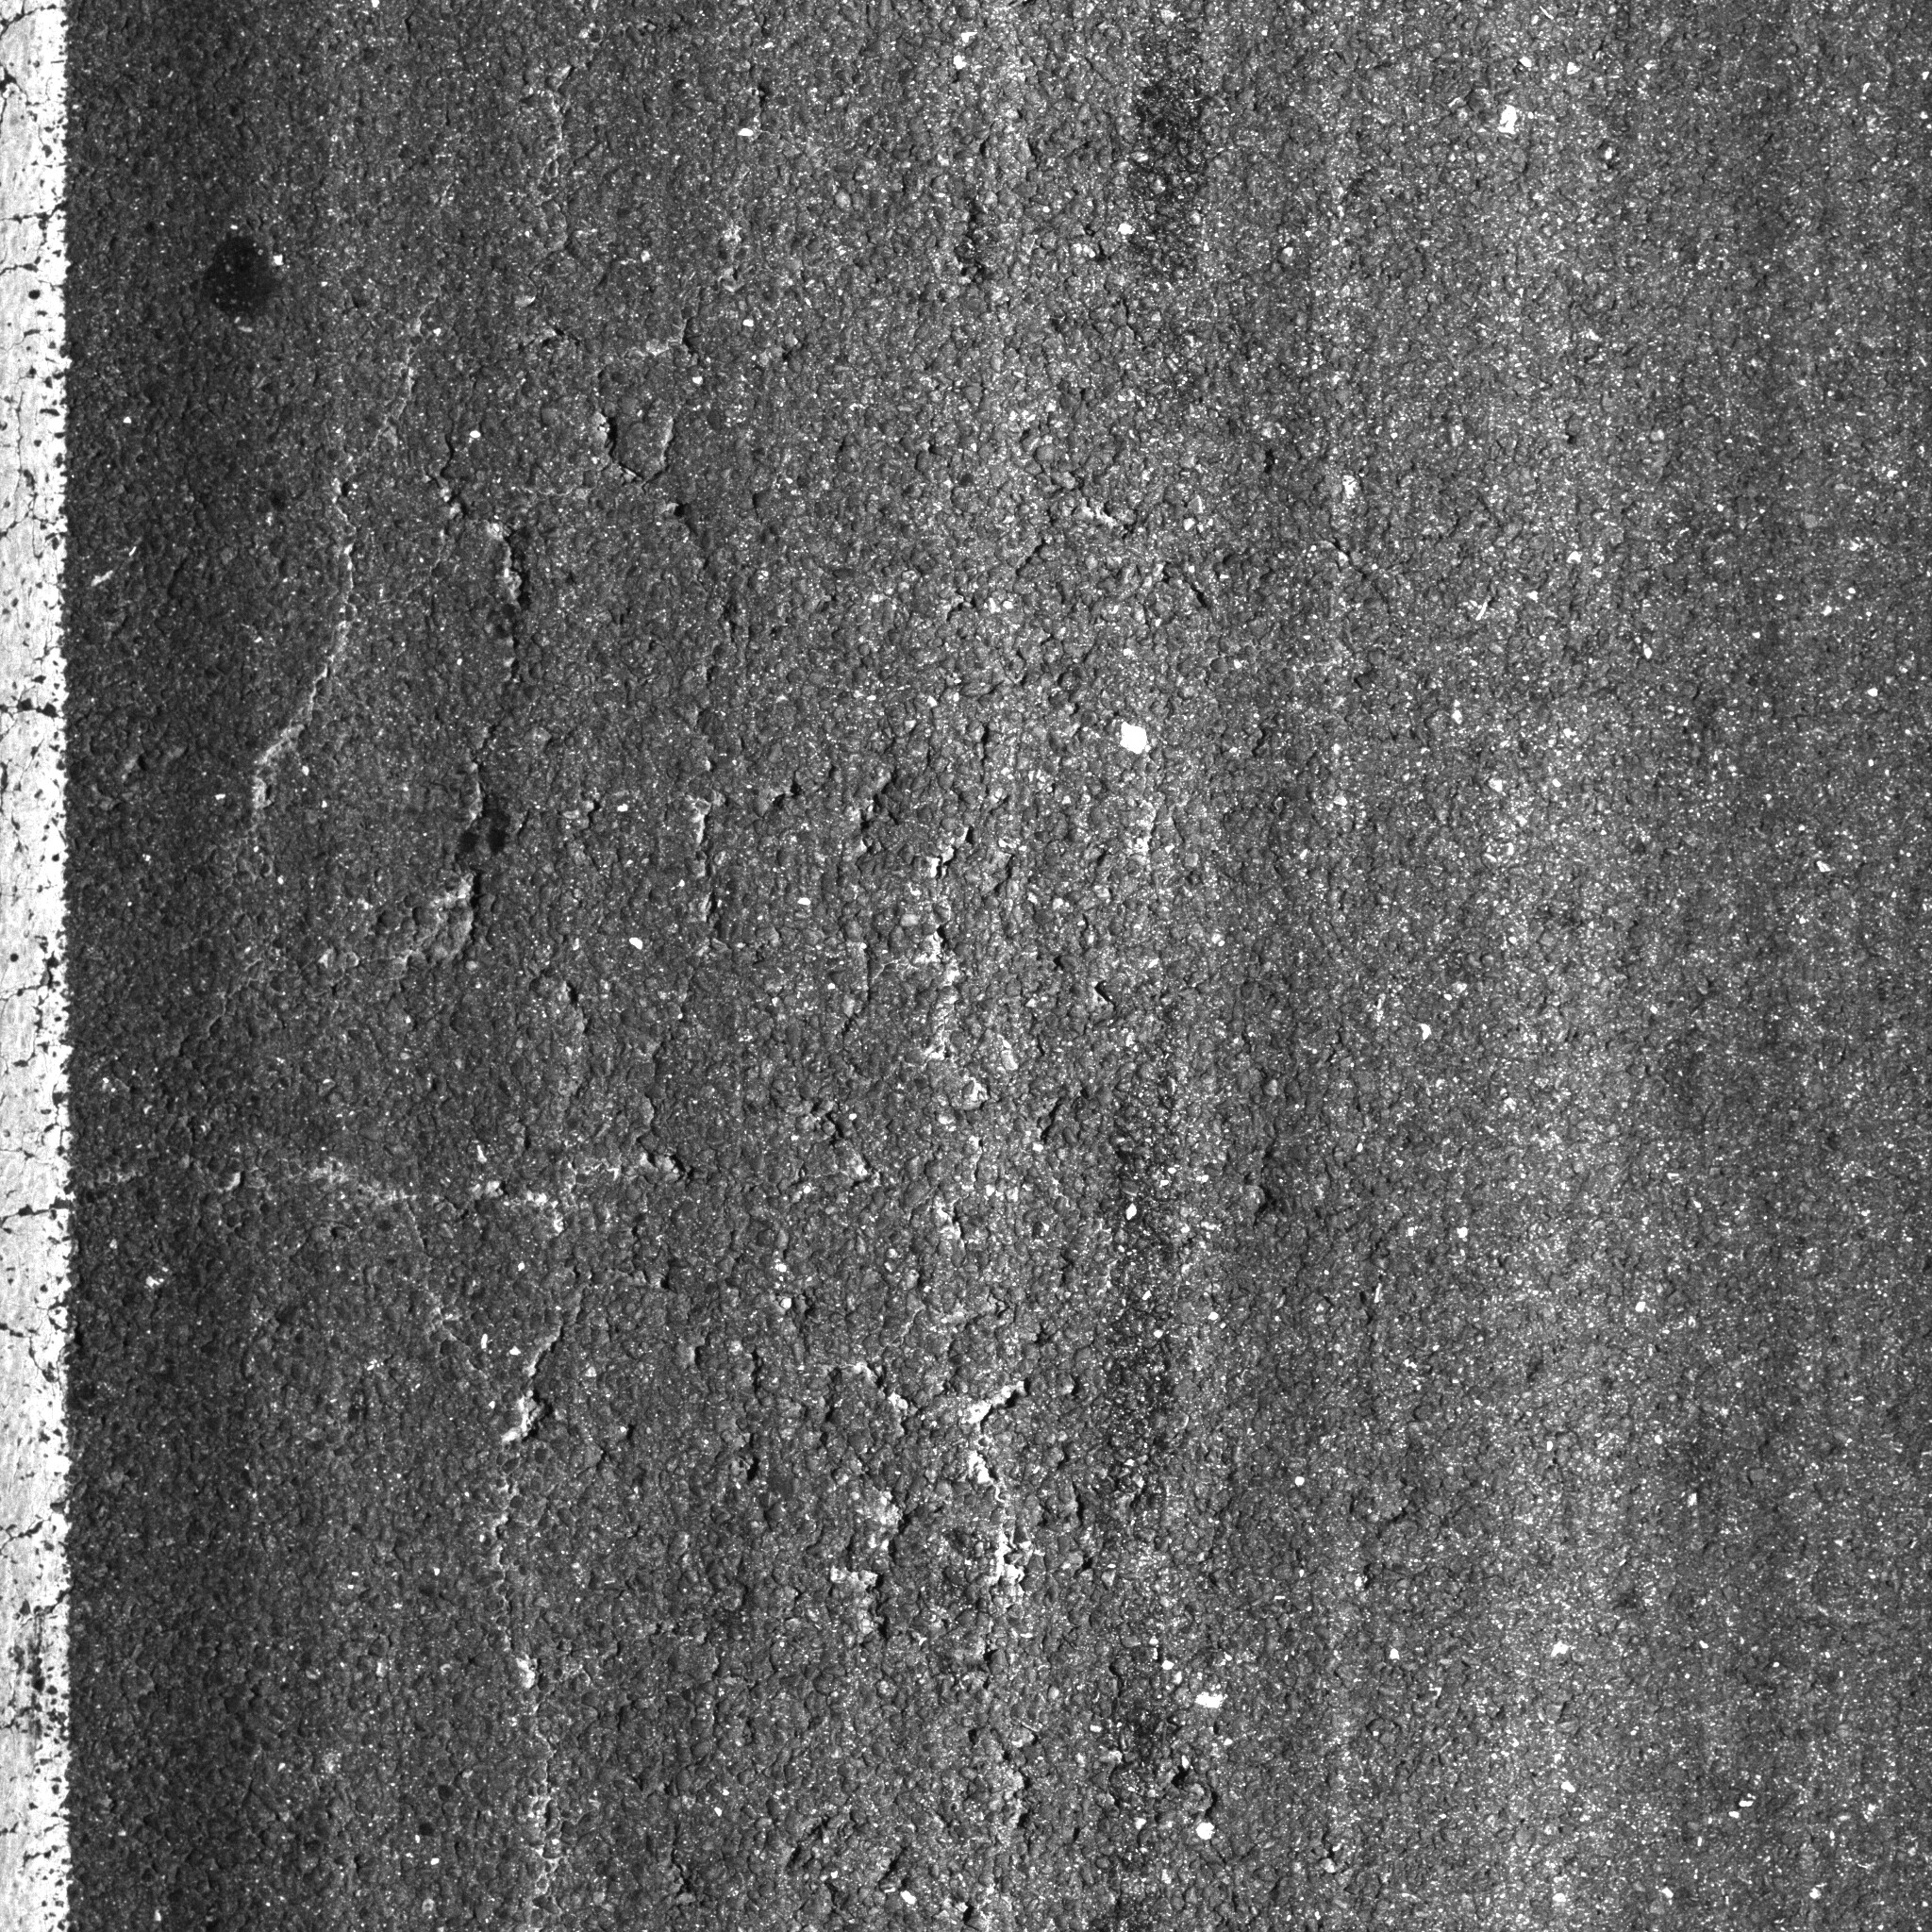alligator: (48, 48, 1058, 1932)
